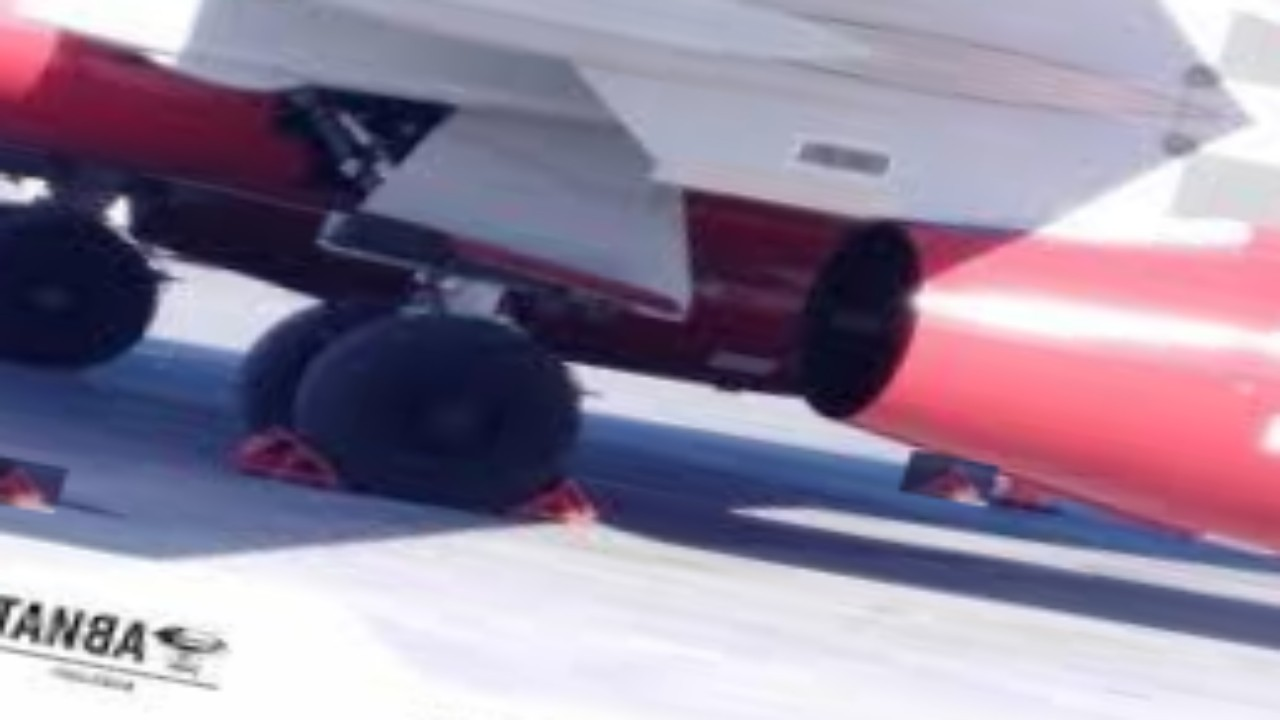chock: (212, 411, 357, 490), (489, 462, 620, 535), (899, 450, 1000, 507), (0, 450, 68, 514)
wheel: (268, 289, 610, 529), (0, 183, 196, 391)
